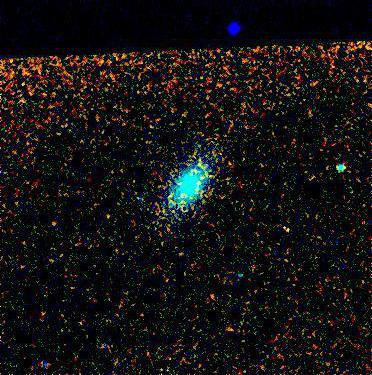star: (269, 215, 299, 245)
